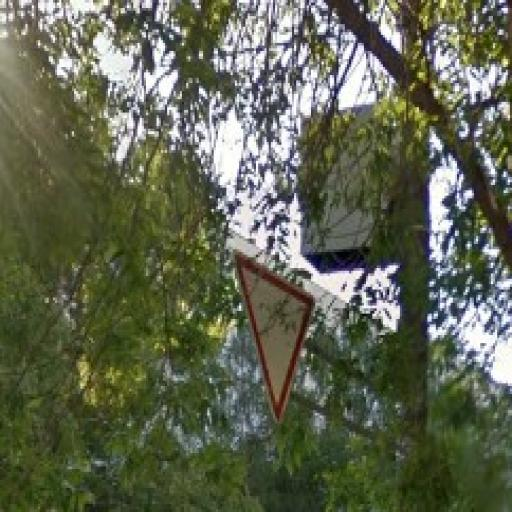traffic_sign: (232, 248, 318, 427)
